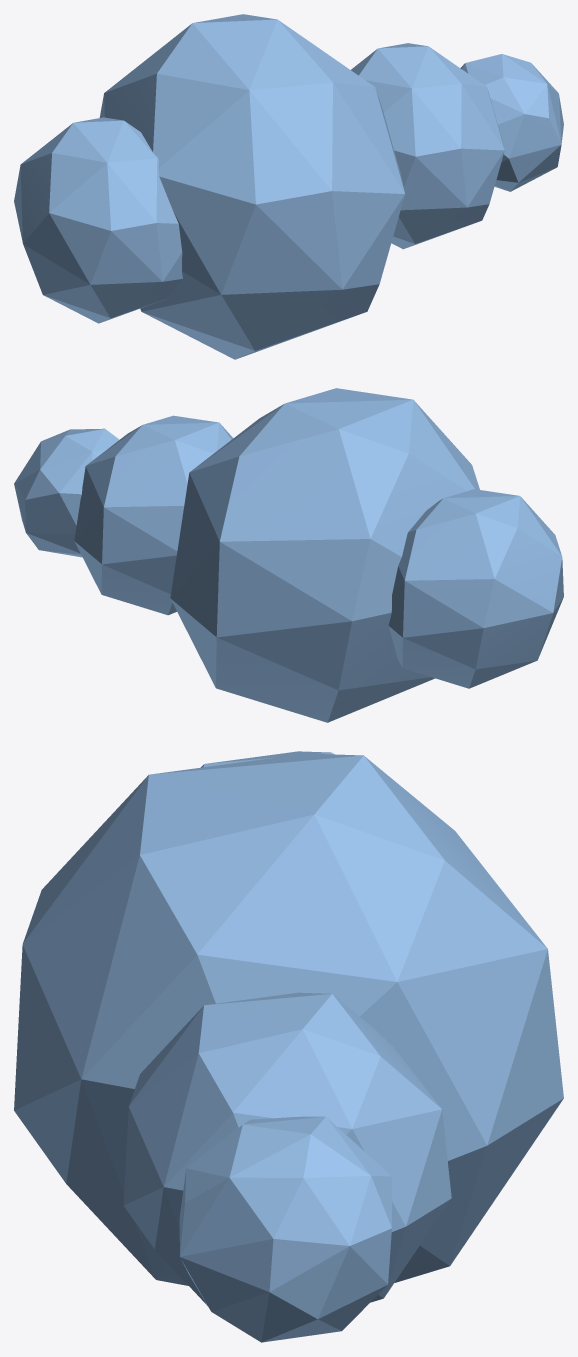
Rendered from cloud_3.fbx.
3 views of the same model, one above another, from view 1: azimuth 30°, elevation 25°; view 2: azimuth 150°, elevation 25°; view 3: azimuth 270°, elevation 25° (orthographic). The views are drawn at different scales.
Visible parts, largest first — view 1: cloud_3; view 2: cloud_3; view 3: cloud_3.
Part boxes in pixels (<box>): cloud_3: <box>14,14,563,359</box>; cloud_3: <box>14,388,563,722</box>; cloud_3: <box>14,751,563,1342</box>.
Bounding box in the file's own units: 685 × 374 × 375.
